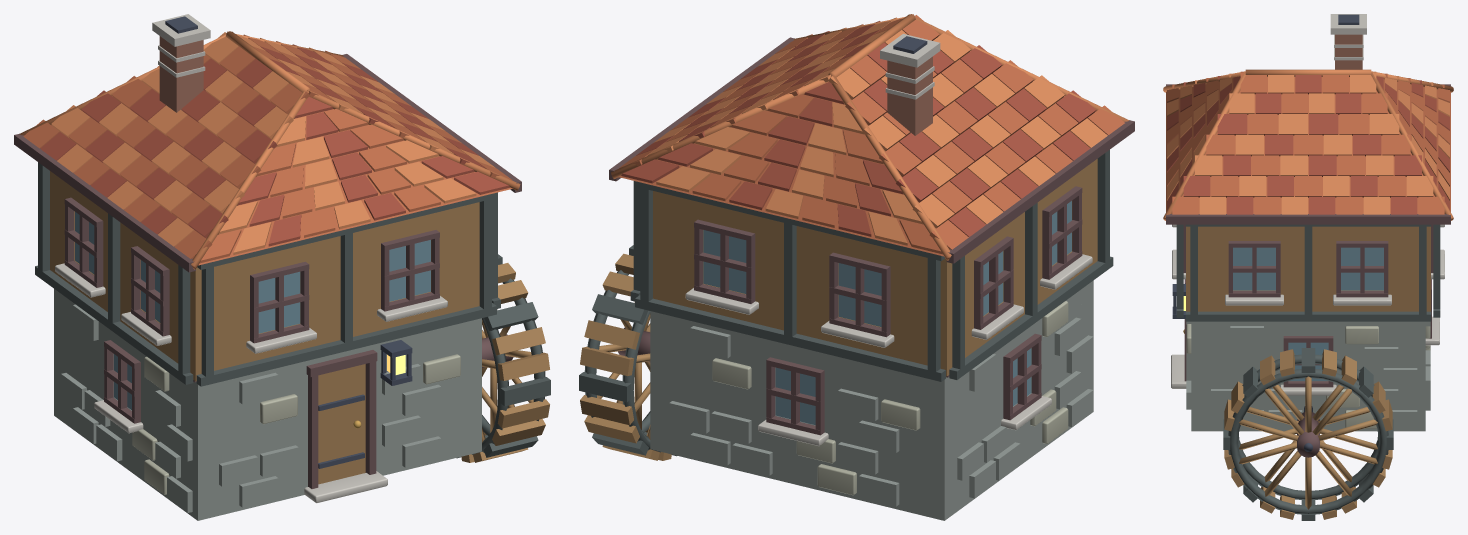
File: watermill.glb
3 views of the same model, side by side, from view 1: azimuth 30°, elevation 25°; view 2: azimuth 150°, elevation 25°; view 3: azimuth 270°, elevation 25° (orthographic). The views are drawn at different scales.
Visible parts, largest first — view 1: move_spin_wheel, Mill_fieldstone_wall.001, Mill_fieldstone_wall.006, Mill_front_oak_door, Mill_crossbeam, Mill_timber_infill.006, Mill_hipped_roof, Mill_eave_fascia, Mill_timber_infill.001, Mill_russet_chimney, Mill_fieldstone_wall.025, Mill_timber_infill.011 (+119 smaller); view 2: move_spin_wheel, Mill_fieldstone_wall.017, Mill_fieldstone_wall.021, Mill_fieldstone_wall.016, Mill_crossbeam.004, Mill_fieldstone_wall.022, Mill_timber_infill.032, Mill_fieldstone_wall.025, Mill_eave_fascia, Mill_hipped_roof, Mill_timber_infill.037, Mill_fieldstone_wall.023 (+126 smaller); view 3: move_spin_wheel, Mill_eave_fascia.001, Mill_hipped_roof, Mill_fieldstone_wall.009, Mill_crossbeam.002, Mill_timber_infill.019, Mill_timber_infill.024, Mill_fieldstone_wall.014, glass_Mill_upper_right, glass_Mill_upper_right.001, Mill_timber_infill.014, Mill_fieldstone_wall.008 (+98 smaller).
Boxes of the visible parts, bbox=[...] form: move_spin_wheel: bbox=[456, 254, 550, 462]; Mill_fieldstone_wall.001: bbox=[192, 375, 307, 516]; Mill_fieldstone_wall.006: bbox=[376, 334, 472, 472]; Mill_front_oak_door: bbox=[318, 364, 365, 484]; Mill_crossbeam: bbox=[196, 303, 496, 386]; Mill_timber_infill.006: bbox=[300, 248, 380, 323]; Mill_hipped_roof: bbox=[51, 81, 512, 265]; Mill_eave_fascia: bbox=[14, 133, 195, 272]; Mill_timber_infill.001: bbox=[190, 280, 249, 349]; Mill_russet_chimney: bbox=[159, 36, 203, 112]; Mill_fieldstone_wall.025: bbox=[54, 303, 113, 396]; Mill_timber_infill.011: bbox=[431, 224, 479, 291]; move_spin_wheel: bbox=[579, 245, 676, 460]; Mill_fieldstone_wall.017: bbox=[650, 333, 775, 415]; Mill_fieldstone_wall.021: bbox=[819, 428, 948, 520]; Mill_fieldstone_wall.016: bbox=[650, 385, 775, 479]; Mill_crossbeam.004: bbox=[635, 295, 945, 381]; Mill_fieldstone_wall.022: bbox=[824, 375, 948, 456]; Mill_timber_infill.032: bbox=[755, 238, 838, 316]; Mill_fieldstone_wall.025: bbox=[935, 362, 1003, 456]; Mill_eave_fascia: bbox=[946, 120, 1134, 263]; Mill_hipped_roof: bbox=[619, 35, 1095, 256]; Mill_timber_infill.037: bbox=[890, 272, 952, 342]; Mill_fieldstone_wall.023: bbox=[819, 352, 948, 404]; move_spin_wheel: bbox=[1223, 348, 1393, 520]; Mill_eave_fascia.001: bbox=[1166, 214, 1450, 224]; Mill_hipped_roof: bbox=[1166, 77, 1450, 213]; Mill_fieldstone_wall.009: bbox=[1194, 340, 1283, 380]; Mill_crossbeam.002: bbox=[1185, 311, 1431, 321]; Mill_timber_infill.019: bbox=[1280, 245, 1336, 290]; Mill_timber_infill.024: bbox=[1388, 245, 1430, 290]; Mill_fieldstone_wall.014: bbox=[1333, 340, 1425, 380]; glass_Mill_upper_right: bbox=[1233, 247, 1275, 290]; glass_Mill_upper_right.001: bbox=[1341, 247, 1383, 290]; Mill_timber_infill.014: bbox=[1198, 245, 1228, 290]; Mill_fieldstone_wall.008: bbox=[1199, 381, 1288, 431].
Bounding box in the file's own units: 7.61 × 8.44 × 5.77.
